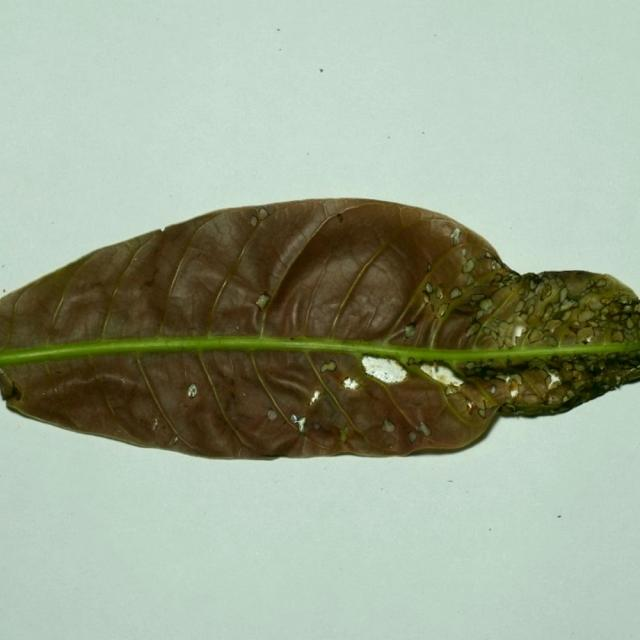Anthracnose: (360, 355, 408, 384), (421, 363, 465, 388), (423, 283, 445, 309), (255, 294, 275, 317), (255, 293, 272, 311), (576, 327, 594, 343), (544, 371, 560, 389), (527, 331, 549, 344), (342, 377, 361, 391), (461, 258, 476, 273), (478, 297, 494, 311), (559, 299, 576, 312), (403, 323, 417, 338), (512, 324, 525, 340), (339, 426, 350, 444), (382, 418, 395, 433), (509, 374, 522, 388), (322, 360, 337, 372), (265, 408, 278, 421), (449, 288, 463, 300), (541, 286, 553, 300), (450, 227, 461, 242), (296, 417, 306, 433), (258, 207, 270, 220), (419, 424, 431, 437), (168, 433, 179, 446), (187, 384, 197, 398), (445, 385, 459, 395), (423, 282, 434, 294), (408, 431, 418, 443), (249, 216, 259, 227), (435, 287, 444, 299), (569, 321, 581, 330), (510, 386, 519, 398), (422, 292, 430, 304), (151, 418, 158, 431), (290, 414, 299, 424), (584, 335, 594, 343), (489, 385, 497, 395), (336, 213, 344, 223), (426, 262, 433, 272), (581, 338, 590, 345), (461, 248, 467, 258)
Mango: (0, 198, 639, 463)
